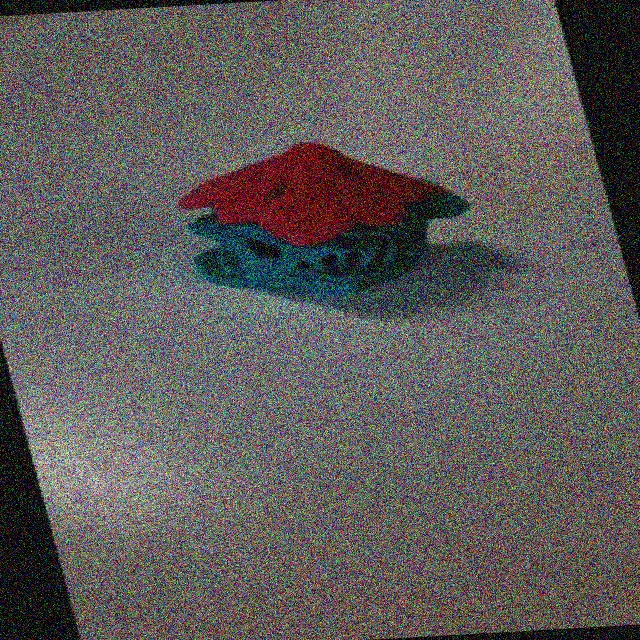House: (138, 113, 541, 351)
